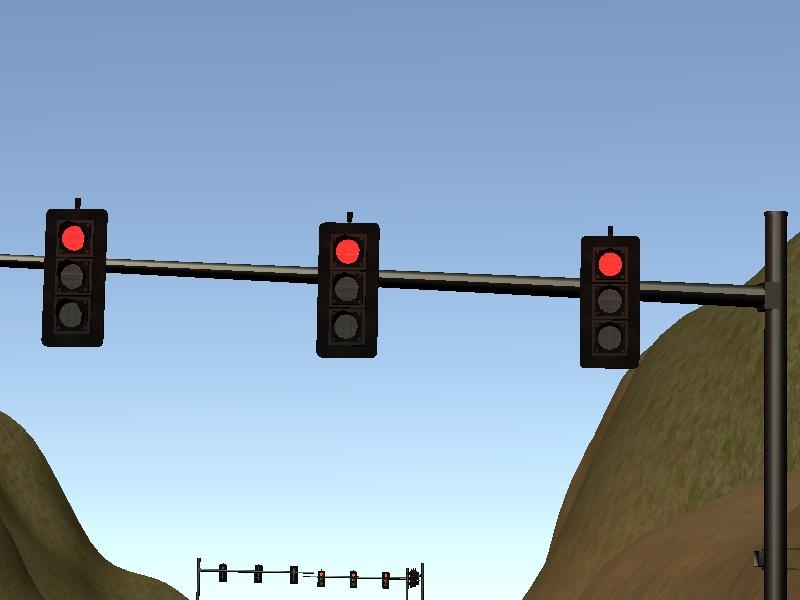RED: (39, 210, 107, 348), (578, 237, 642, 370), (315, 221, 378, 356)
